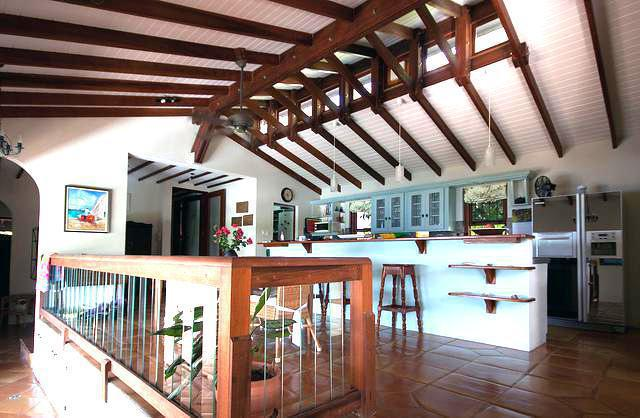Matera: (167, 290, 291, 414)
